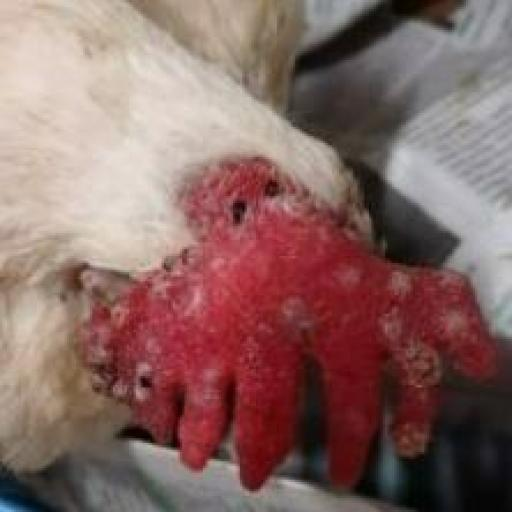disease: (70, 272, 171, 402), (205, 168, 271, 238), (256, 285, 331, 339), (199, 341, 245, 412), (433, 308, 485, 355), (400, 353, 451, 396), (180, 267, 218, 320), (367, 313, 411, 345), (341, 268, 374, 301), (385, 275, 420, 301)
